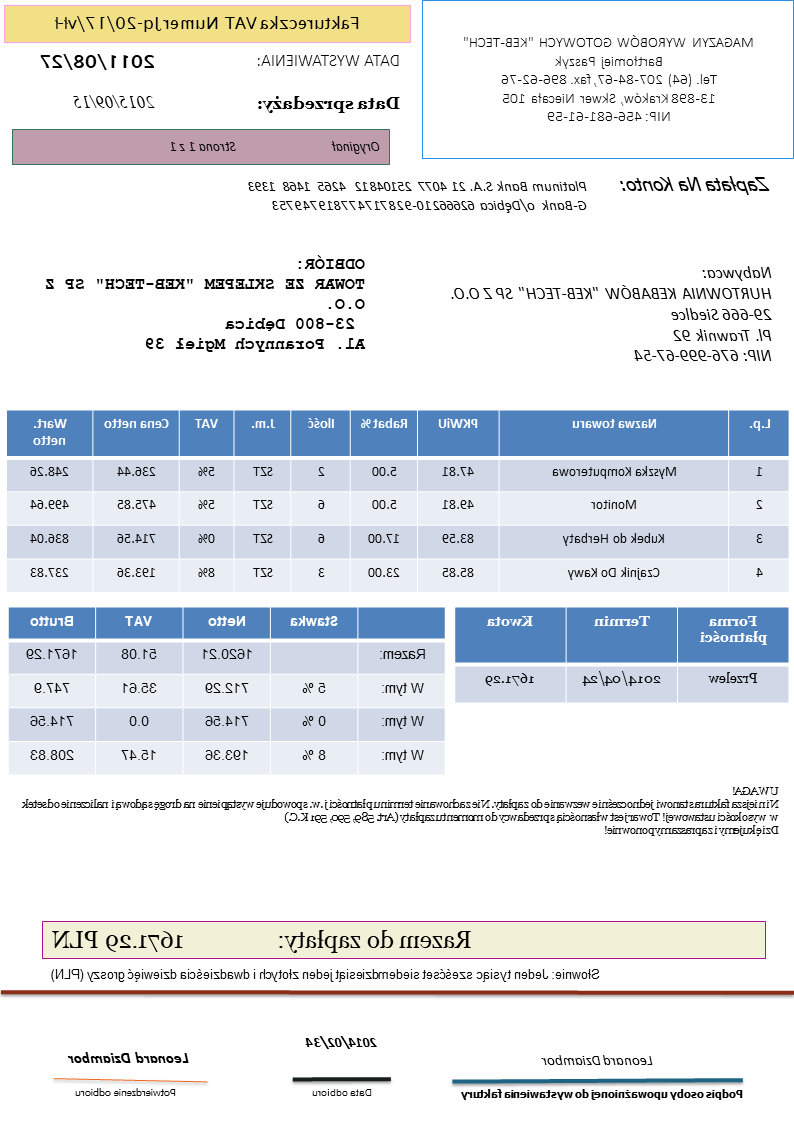Table: (6, 408, 790, 594), (7, 606, 447, 776), (454, 605, 790, 705)
TextBox: (19, 783, 782, 840), (40, 251, 369, 355), (450, 262, 776, 365), (460, 32, 757, 126), (244, 177, 590, 216), (49, 925, 474, 956), (51, 963, 602, 986), (54, 12, 363, 34), (458, 1084, 746, 1103), (170, 139, 382, 157), (619, 173, 772, 197), (254, 93, 403, 115), (256, 50, 403, 71), (39, 52, 157, 75), (68, 1049, 193, 1066), (538, 1051, 656, 1069), (72, 92, 156, 112), (74, 1086, 178, 1099), (304, 1033, 379, 1051), (311, 1084, 376, 1100)
